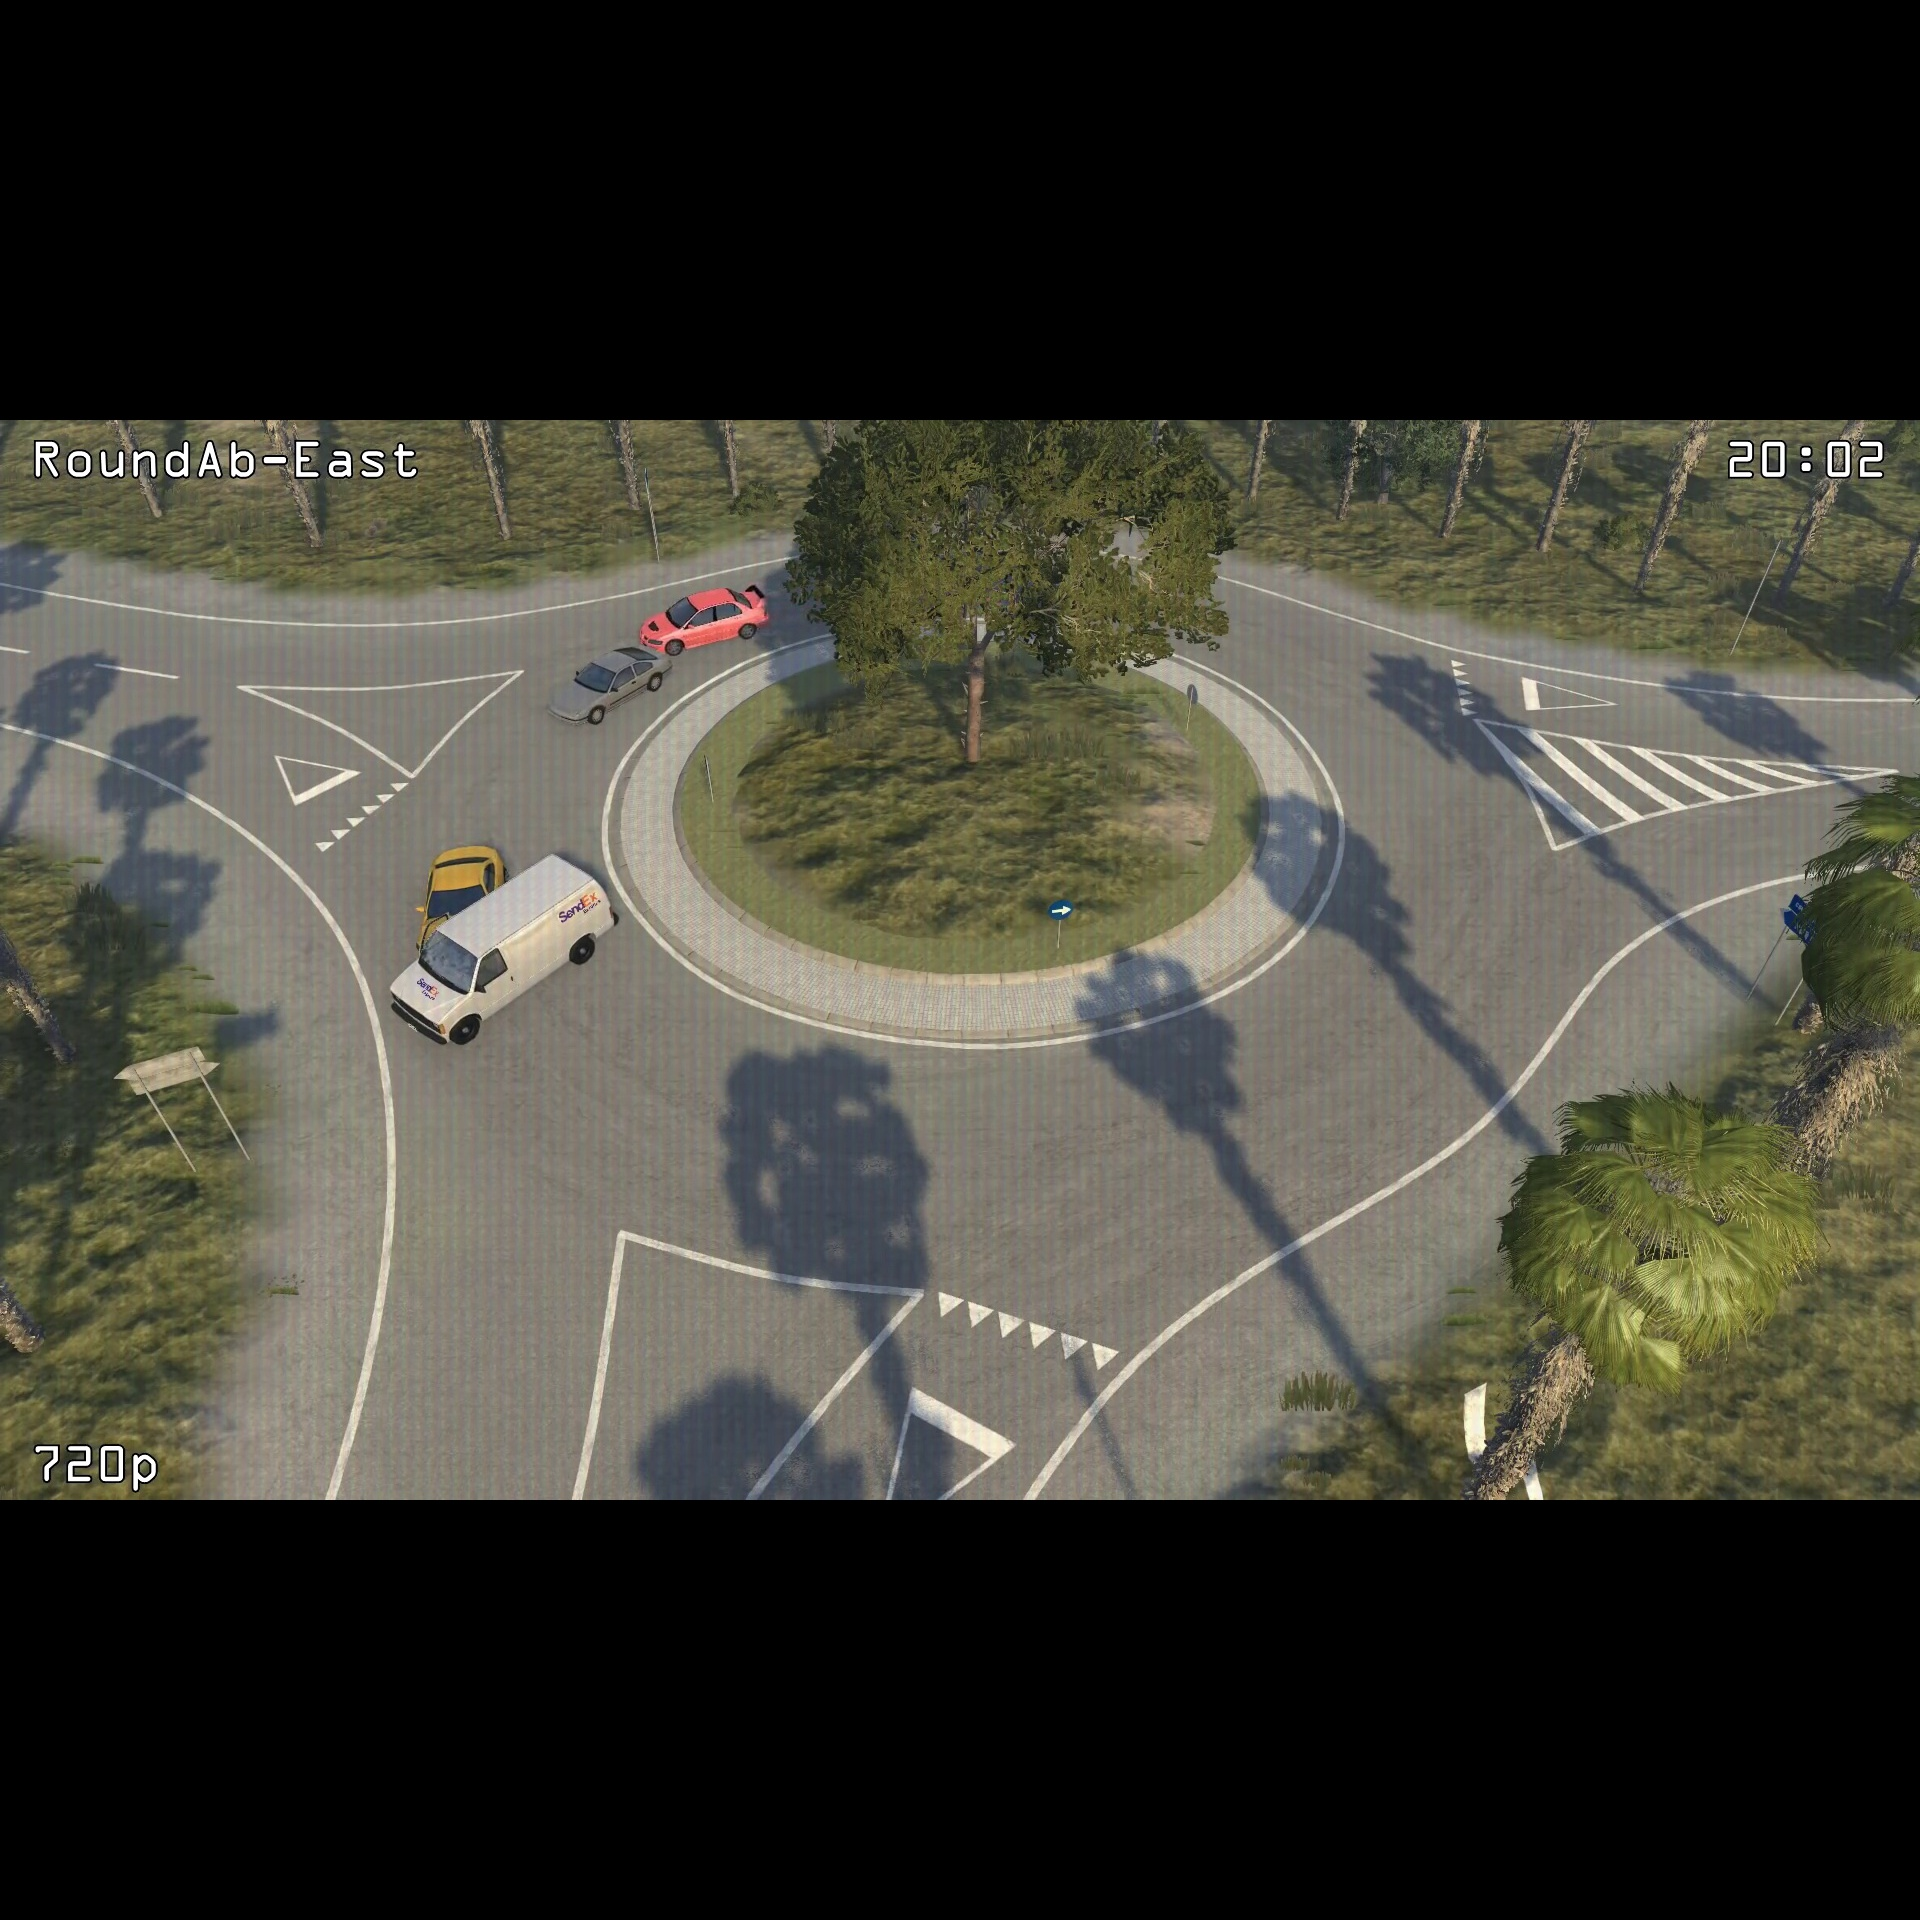vehicle: (385, 849, 622, 1050), (638, 571, 777, 656), (542, 644, 672, 733), (404, 837, 506, 937)
